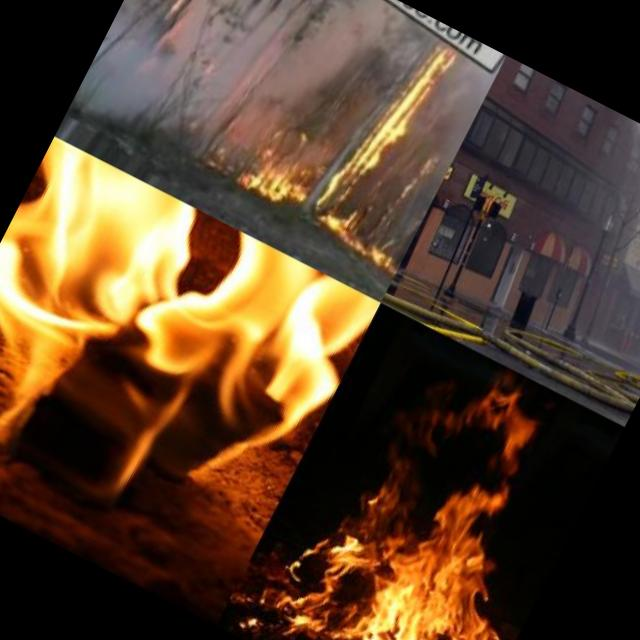fire: (0, 136, 380, 575), (243, 331, 616, 640), (304, 30, 488, 272), (230, 117, 330, 215)
smoke: (123, 0, 409, 157), (70, 36, 236, 172)
